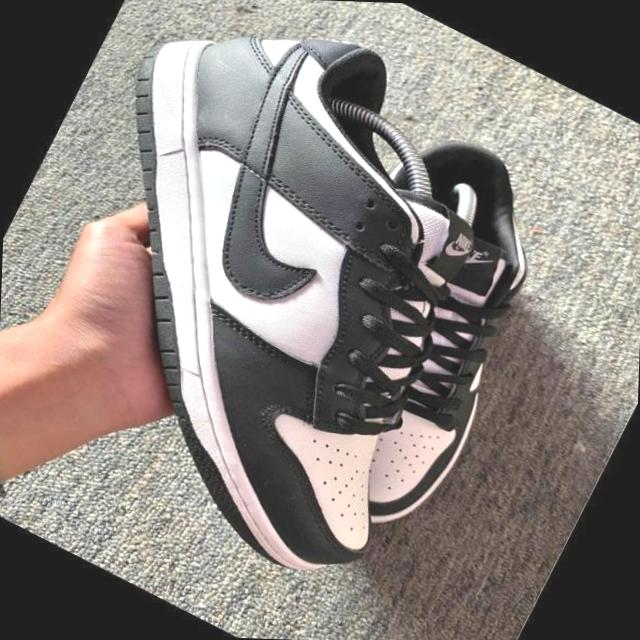nike_original_jordan: (0, 0, 582, 616), (232, 104, 596, 564)
